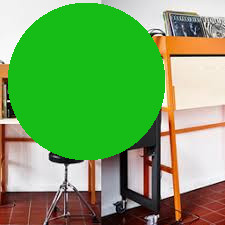focus: (5, 2, 172, 164)
